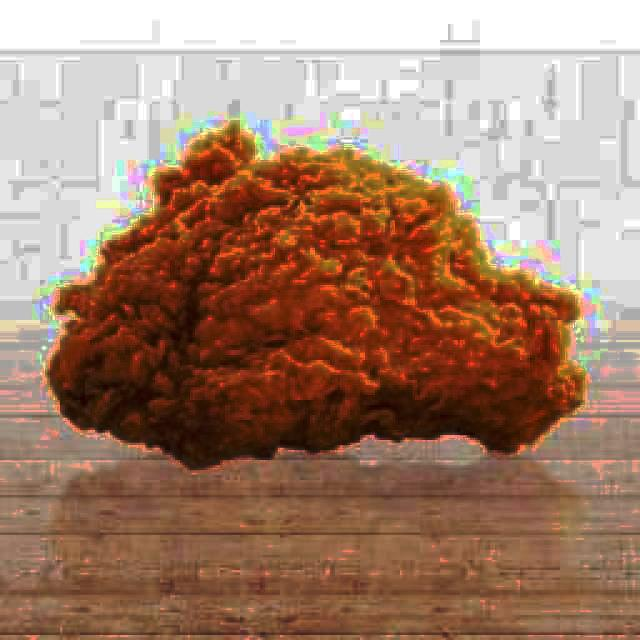fried_chicken: (49, 122, 583, 460)
